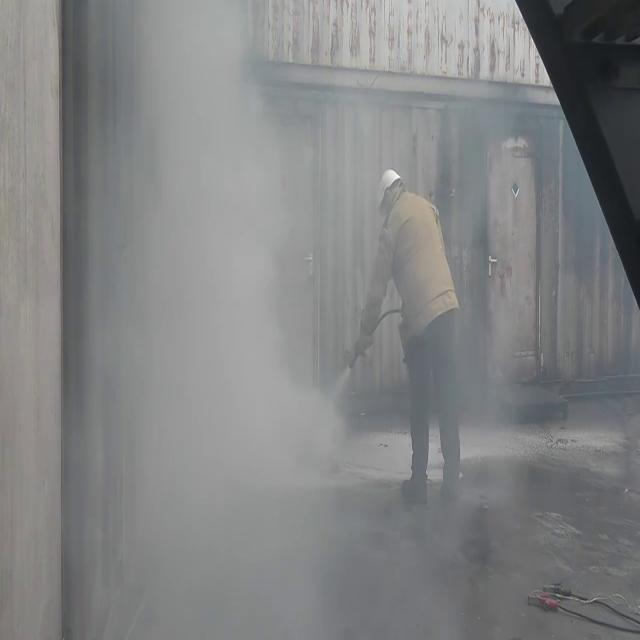Smoke: (70, 0, 350, 640)
